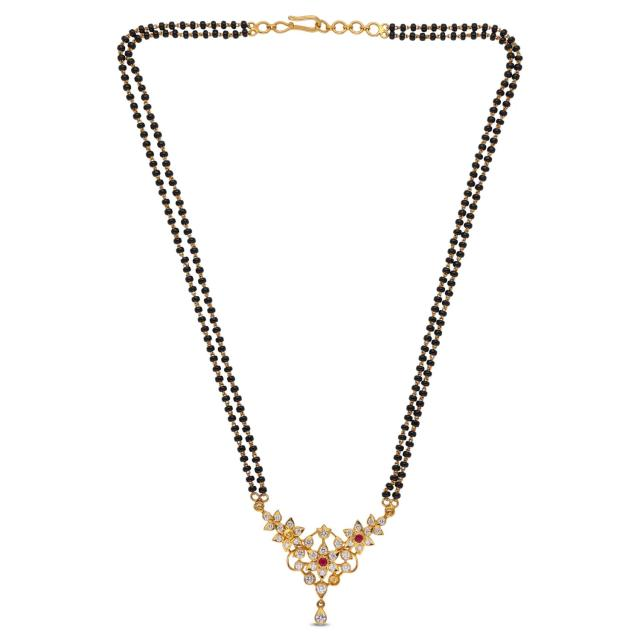missing gem: (284, 530, 294, 539), (330, 575, 339, 584)
